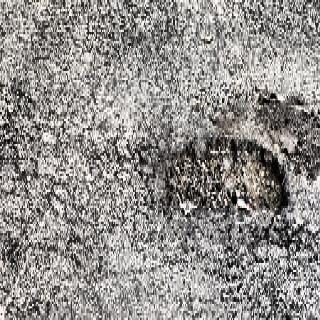pothole: (167, 118, 287, 239)
